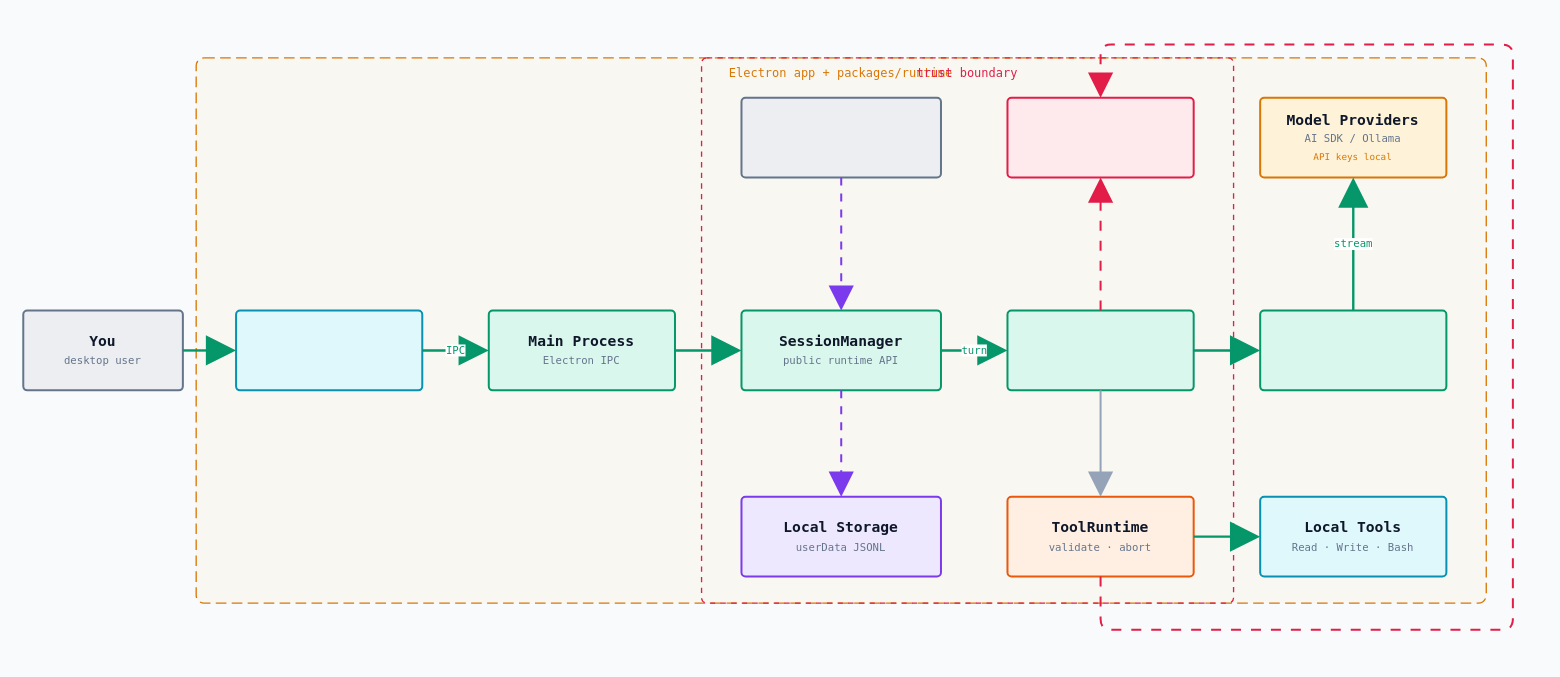
The diagram is 1560 pixels wide and 677 high, and some of its shapes have lost their labels. Here are the shapes that lost their labels. From the top down, the centre of each, then its label:
point (840, 137): Bots & Gateway Telegram · Feishu · HTTP
point (1100, 137): Permission policy engine fail-closed
point (328, 350): Desktop UI React renderer
point (1100, 350): AgentRun turn + recovery
point (1353, 350): ModelAdapter stream + usage
